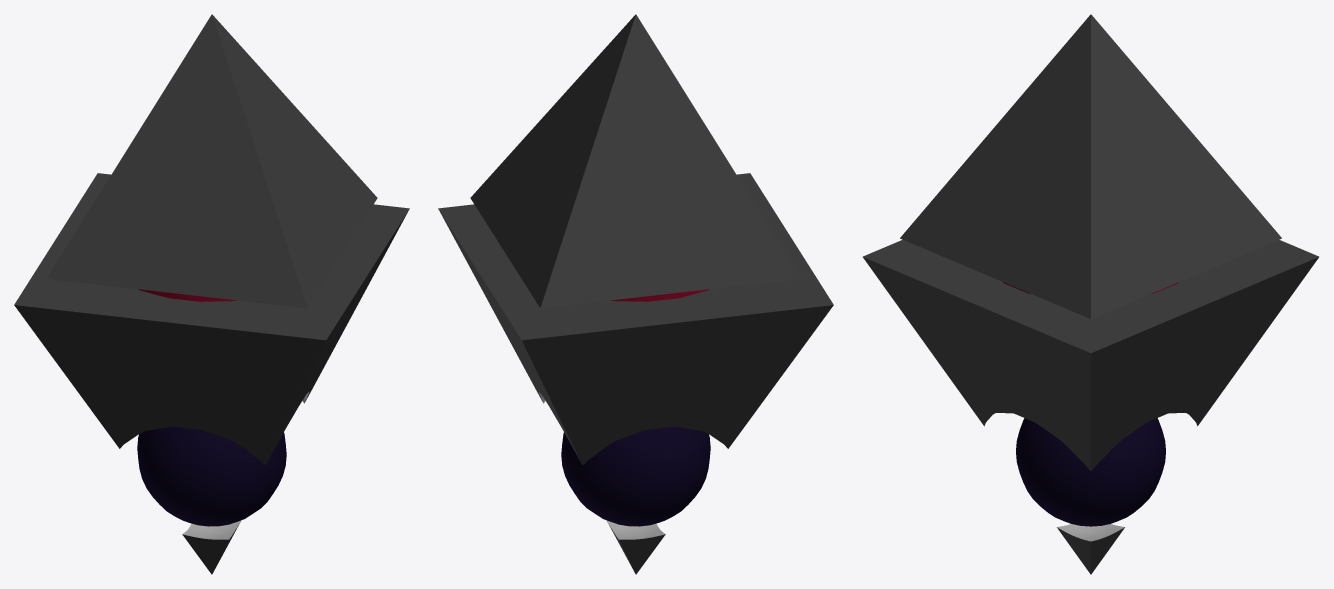
File: enemyDelta.fbx
3 renders of one model, left to right at view 1: azimuth 30°, elevation 25°; view 2: azimuth 150°, elevation 25°; view 3: azimuth 270°, elevation 25°, orthographic.
Parts seen in each view (by area): view 1: pCone4, pCone5, pSphere3; view 2: pCone4, pCone5, pSphere3; view 3: pCone4, pCone5, pSphere3.
Boxes of the visible parts, left/top/right/bottom form: pCone4: left=46, top=14, right=377, bottom=308; pCone5: left=14, top=173, right=409, bottom=574; pSphere3: left=137, top=426, right=286, bottom=526; pCone4: left=470, top=14, right=801, bottom=308; pCone5: left=438, top=173, right=833, bottom=574; pSphere3: left=561, top=426, right=710, bottom=526; pCone4: left=900, top=14, right=1281, bottom=318; pCone5: left=863, top=239, right=1318, bottom=574; pSphere3: left=1016, top=418, right=1165, bottom=526.
Bounding box in the file's own units: 4.26 × 5.77 × 4.26.
